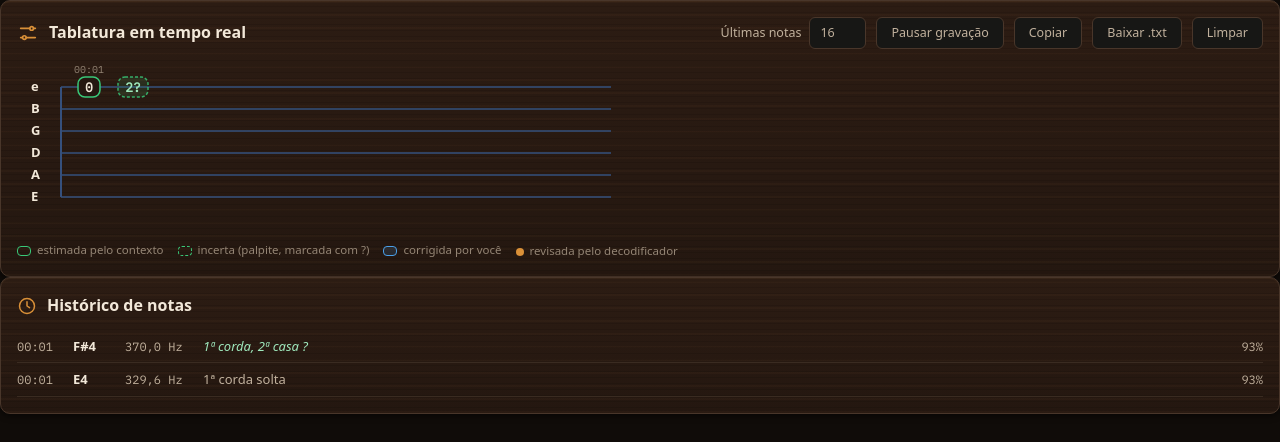
it: TablaturePanel › pausar muda o rótulo e o aviso; limpar esvazia tablatura e histórico
Click the button with test id "tab-pause" at (940,33), box 876,17 -> 1004,49
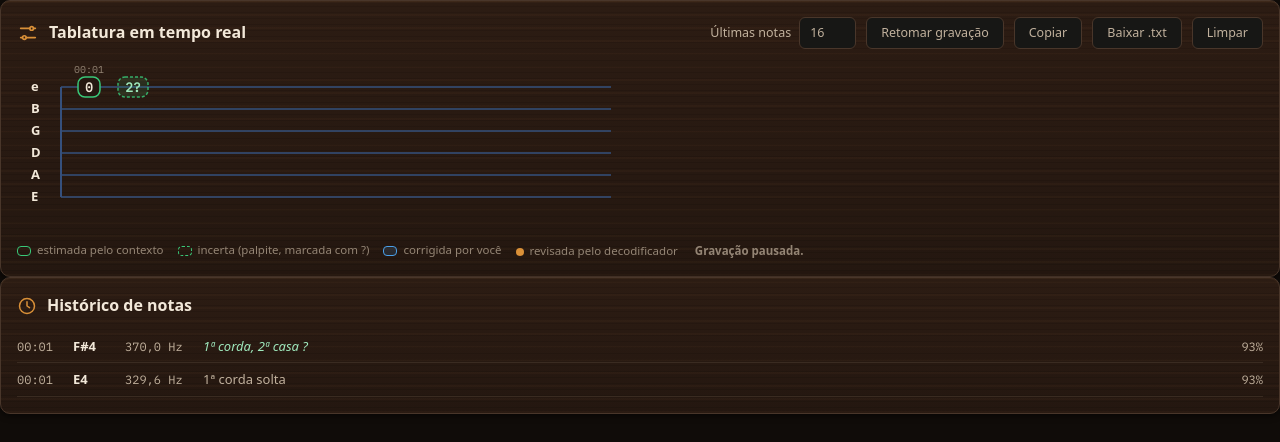
Now the button with test id "tab-pause" reads "Retomar gravação", box 866,17 -> 1004,49
Now the text "Gravação pausada." is shown, box 692,244 -> 804,259
Click the button with test id "tab-clear" at (1227,33), box 1192,17 -> 1263,49
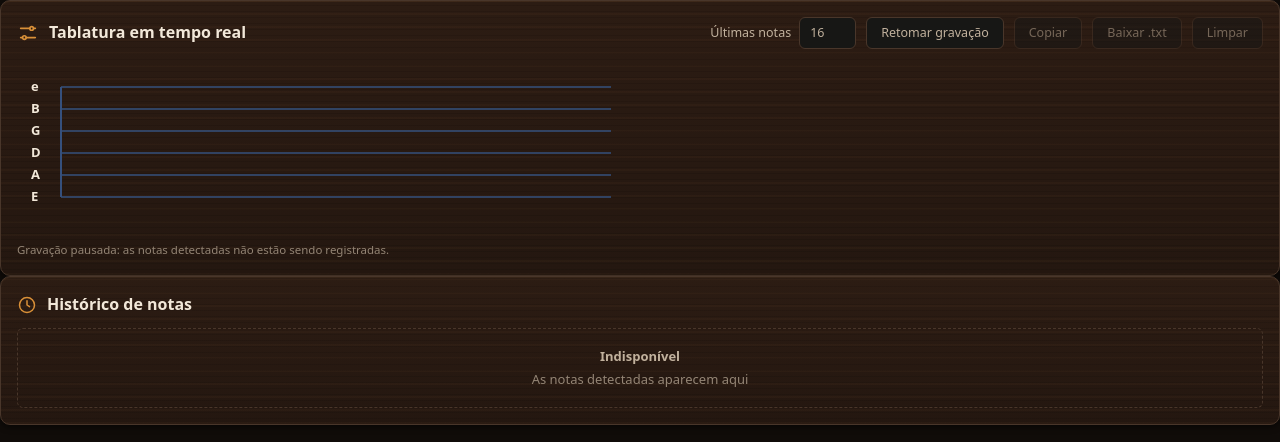
Now no list items with test id "history-item" are shown
